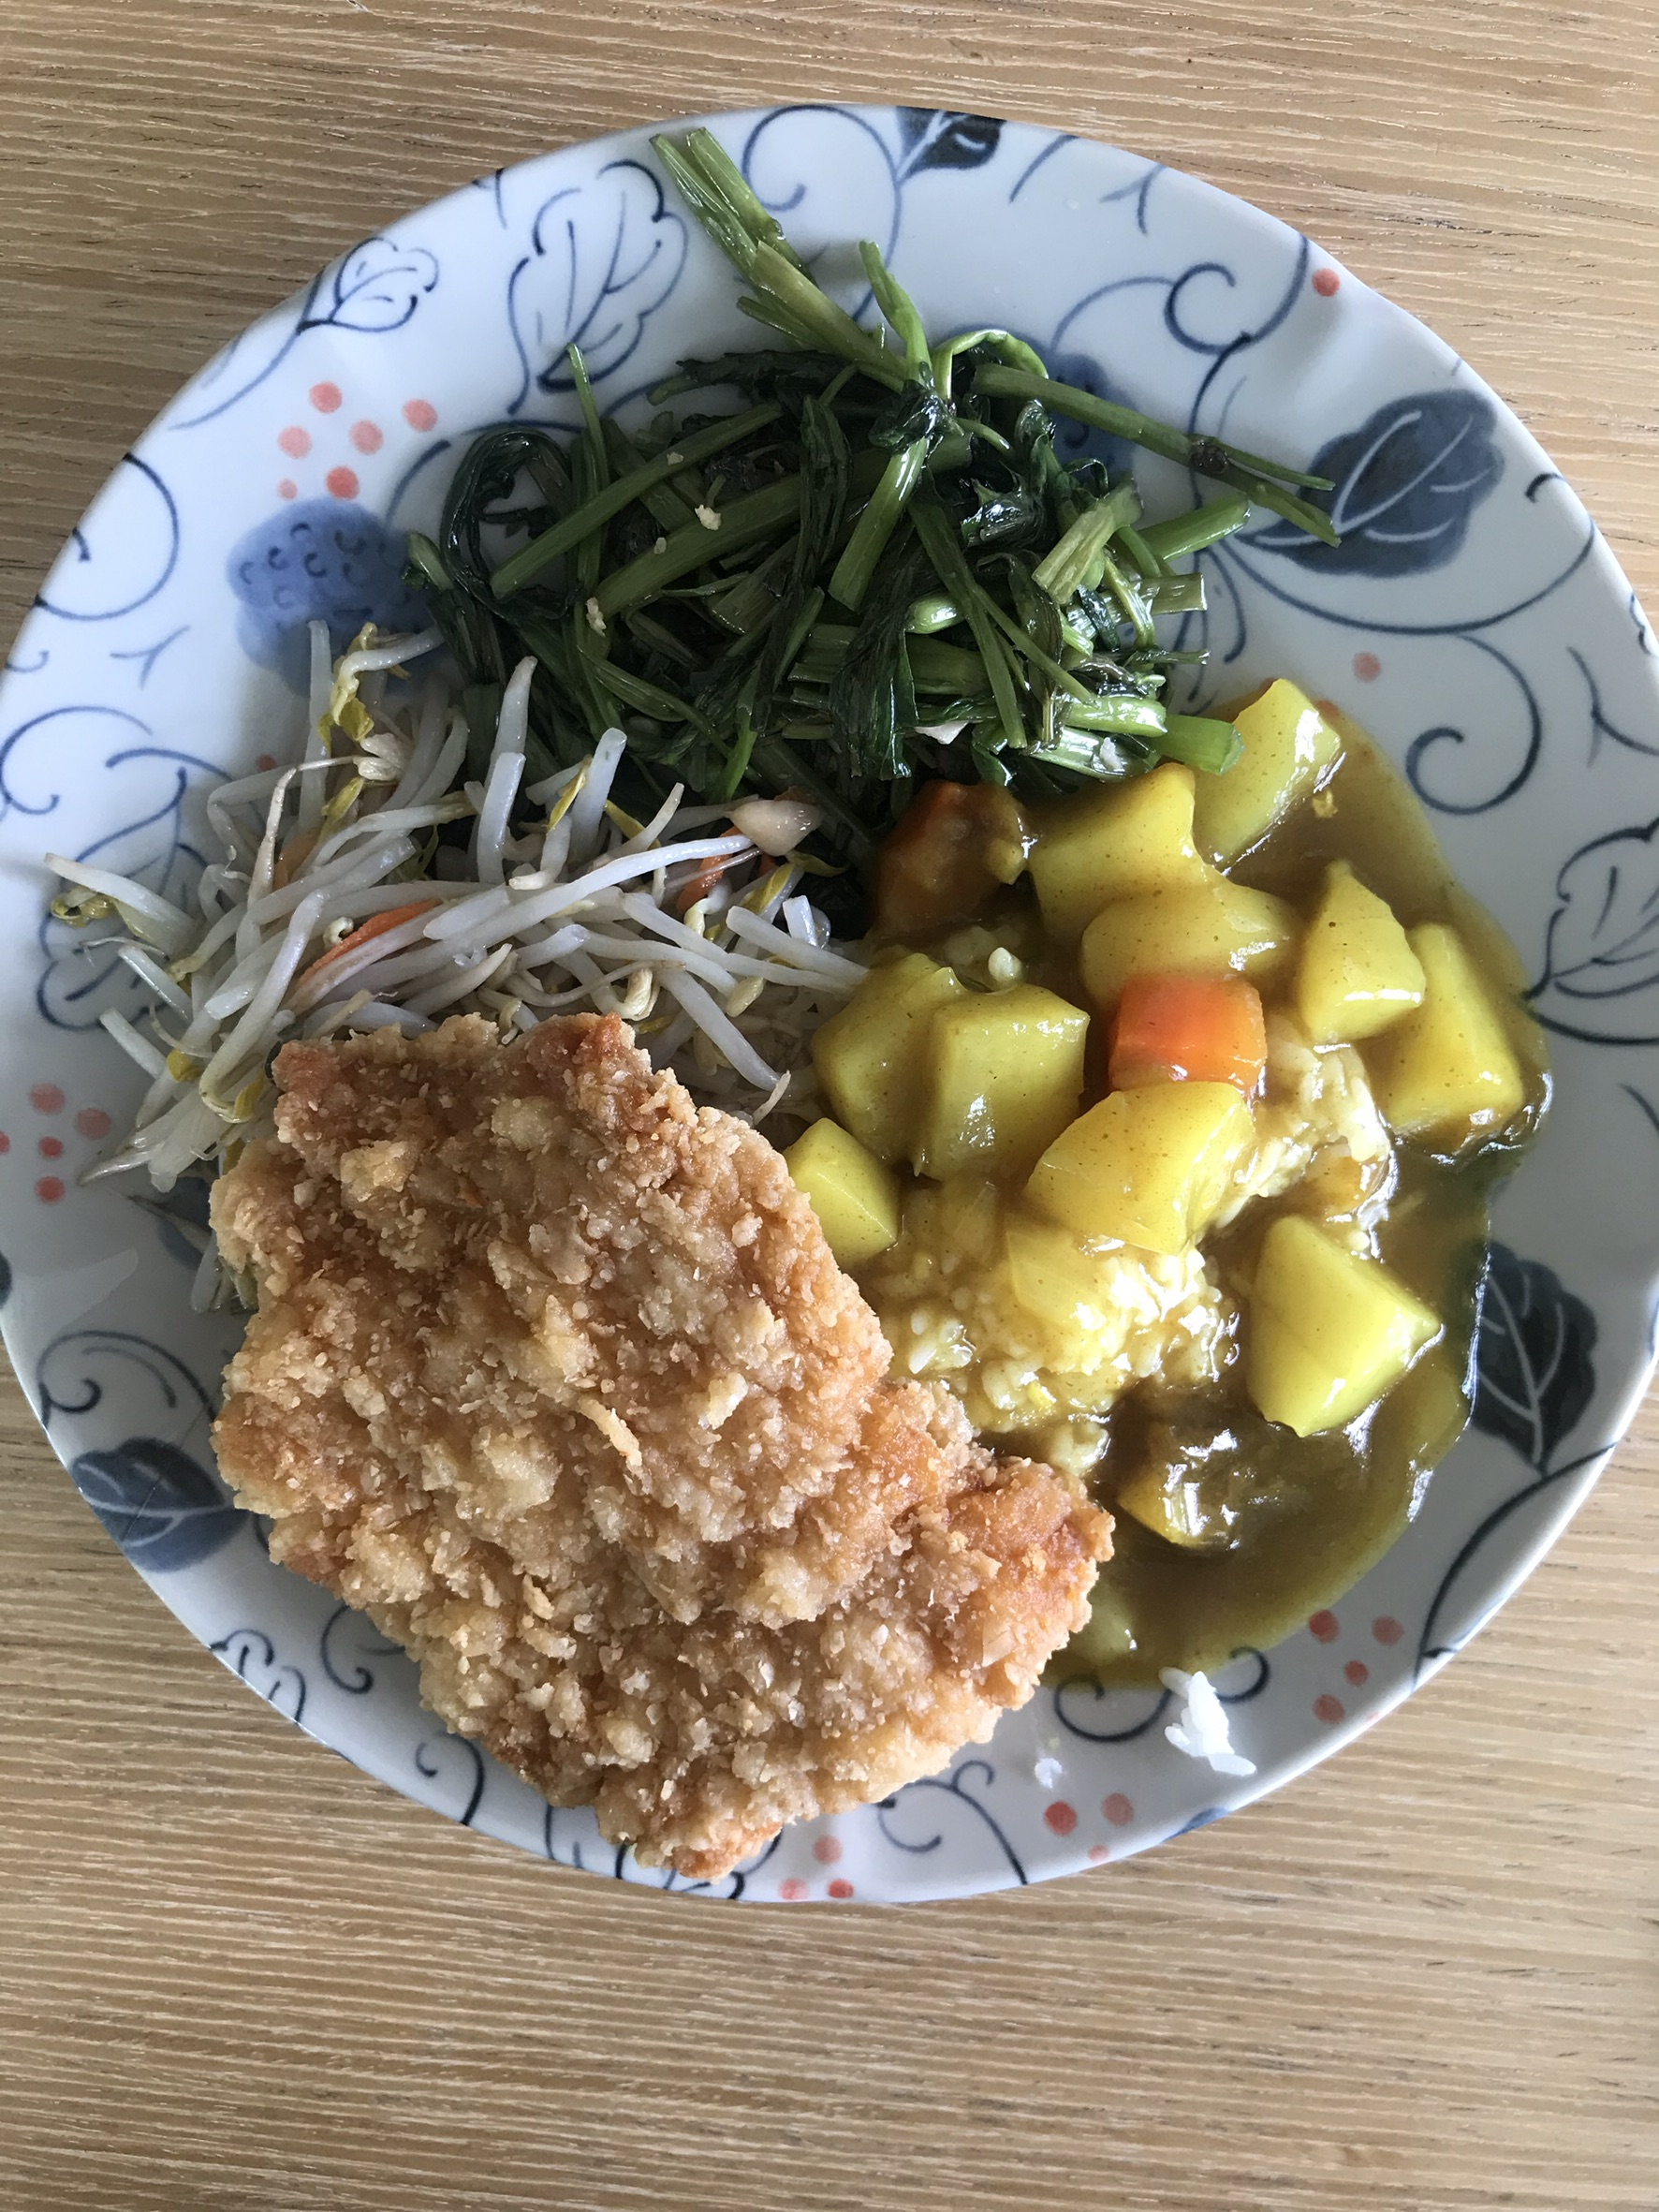curry: (911, 776, 1453, 1382)
fried_chicken: (216, 1058, 1012, 1804)
mung_bean_sprouts: (167, 755, 730, 1021)
water_spinach: (509, 370, 1164, 737)
